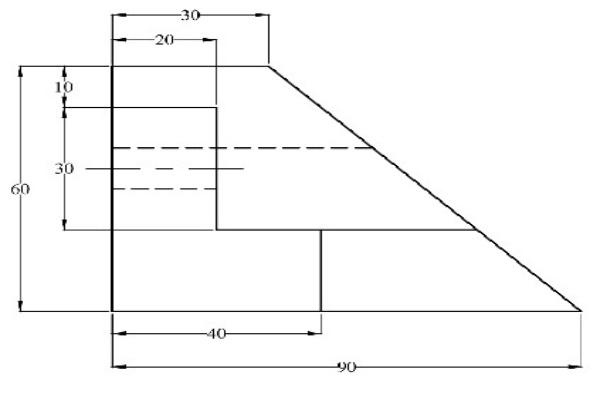dimensions: (331, 351, 361, 378), (200, 321, 233, 345), (149, 26, 177, 48), (177, 4, 203, 26), (10, 181, 38, 200), (49, 79, 81, 95), (55, 159, 77, 180)
